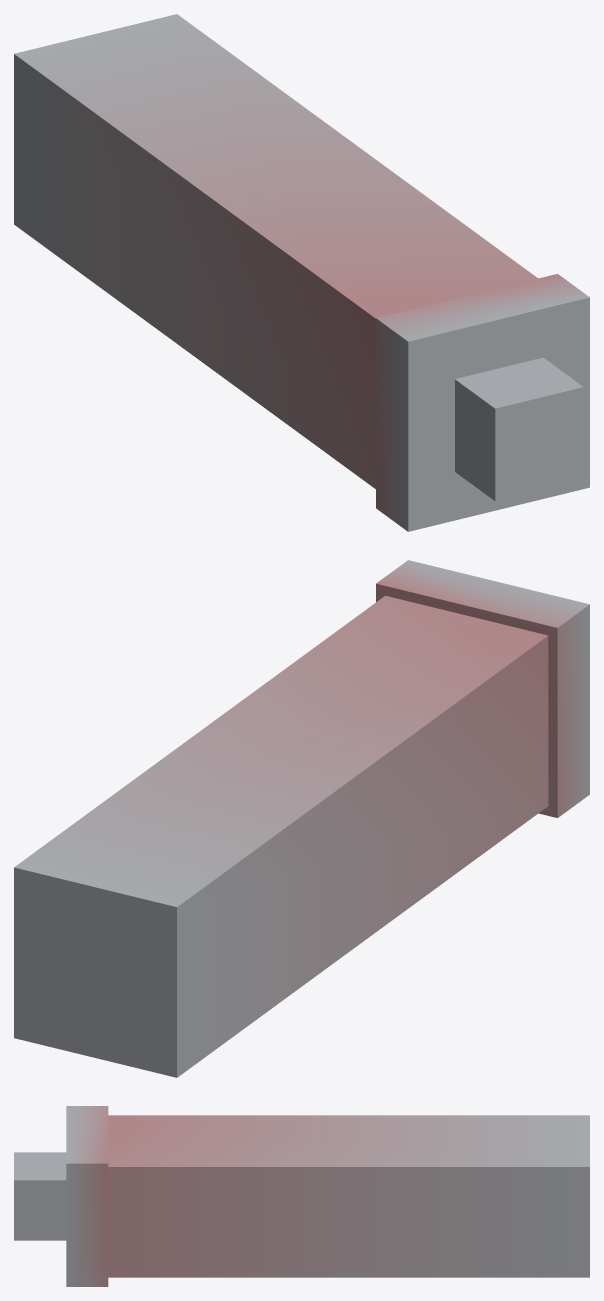
Rendered from leg_front_left.overhang.glb.
3 views of the same model, one above another, from view 1: azimuth 30°, elevation 25°; view 2: azimuth 150°, elevation 25°; view 3: azimuth 270°, elevation 25° (orthographic). The views are drawn at different scales.
Visible parts, largest first — view 1: geometry_0; view 2: geometry_0; view 3: geometry_0.
Boxes of the visible parts, x1,y1,x2,y2 form: geometry_0: (14,14,589,531); geometry_0: (14,560,589,1077); geometry_0: (14,1106,589,1286).
Size of the model in its own units: 78 by 78 by 330.
